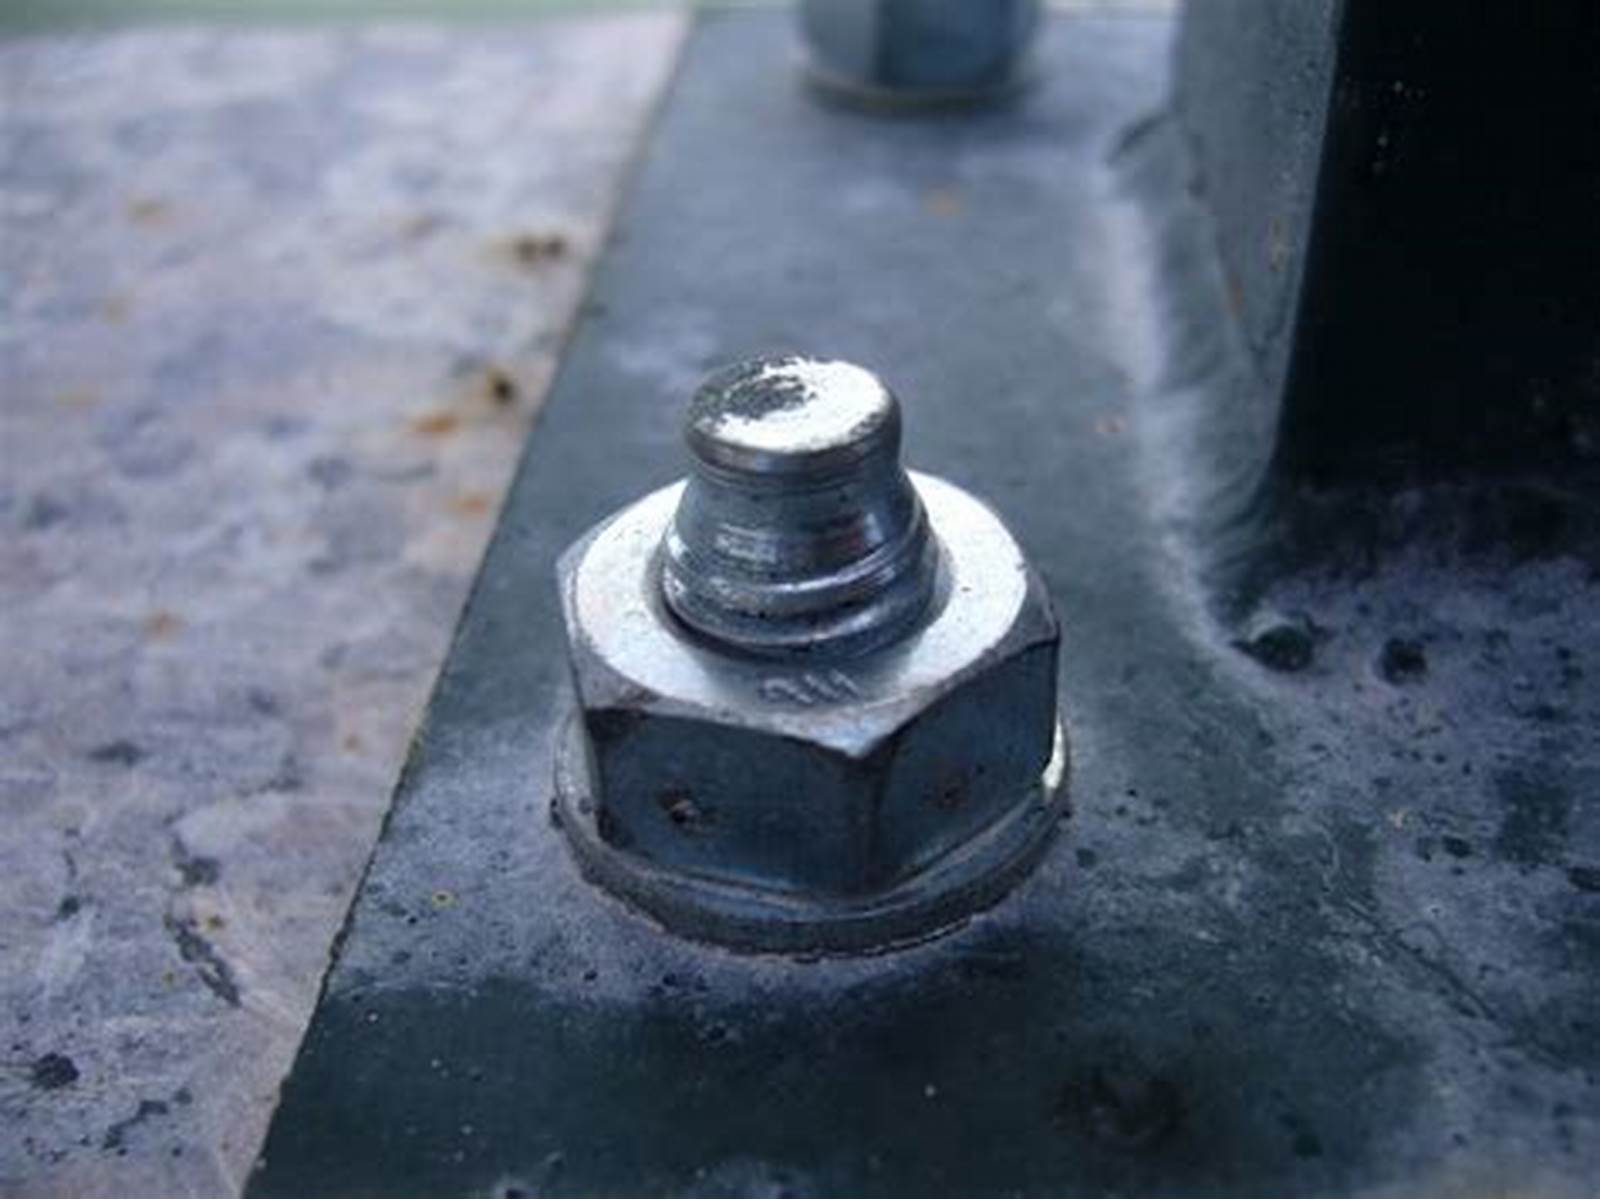bolt_b: (546, 447, 1065, 897)
